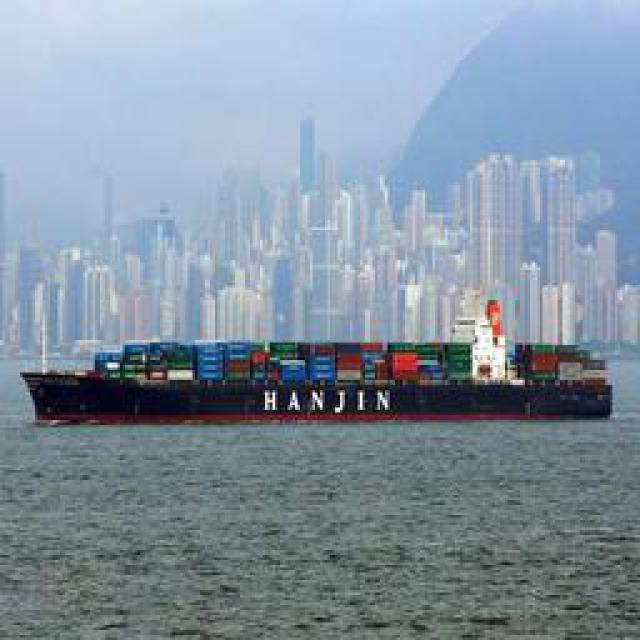Ship: (10, 342, 598, 425)
